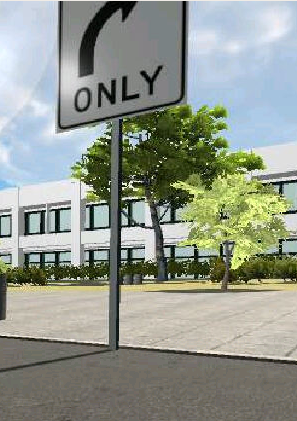arrow_right: (70, 1, 138, 78)
